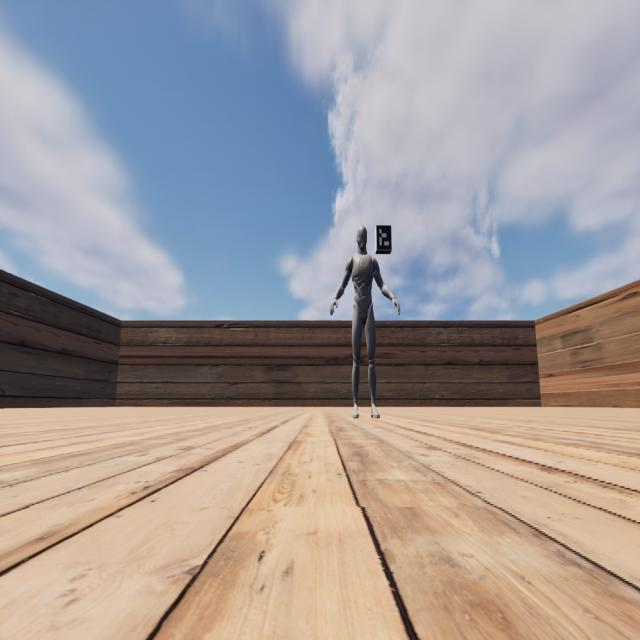aruco: (376, 226, 392, 250)
hip: (353, 303, 373, 311)
